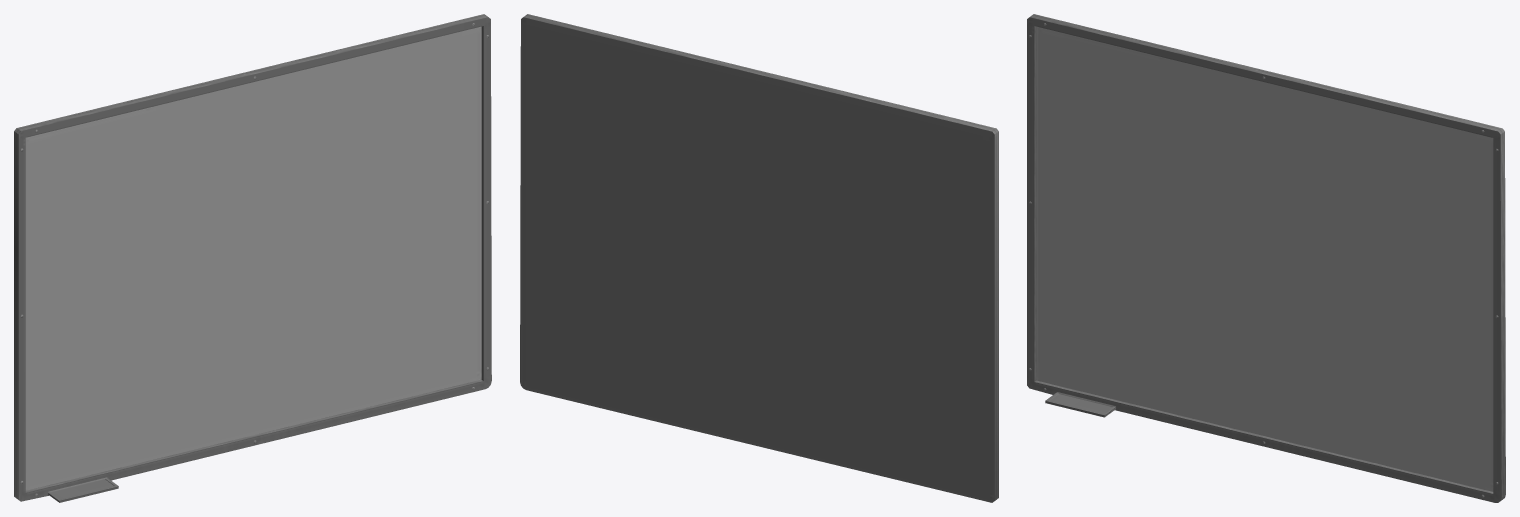
The model's file is whiteboard.glb.
The picture shows the model from 3 angles, left to right: view 1: azimuth 30°, elevation 25°; view 2: azimuth 150°, elevation 25°; view 3: azimuth 330°, elevation 25°; orthographic projection.
Parts seen in each view (by area): view 1: whiteboard.002_whiteboard.004_0, whiteboard.002_metal board.004_0; view 2: whiteboard.002_metal board.004_0; view 3: whiteboard.002_whiteboard.004_0, whiteboard.002_metal board.004_0.
Part boxes in pixels (x1,y1,x2,y2): whiteboard.002_whiteboard.004_0: (25, 26, 481, 490); whiteboard.002_metal board.004_0: (14, 14, 491, 502); whiteboard.002_metal board.004_0: (520, 14, 998, 502); whiteboard.002_whiteboard.004_0: (1036, 26, 1493, 491); whiteboard.002_metal board.004_0: (1027, 14, 1505, 502).
Bounding box in the file's own units: 1.2 × 0.9 × 0.0693.
3 materials, 3 textured.
